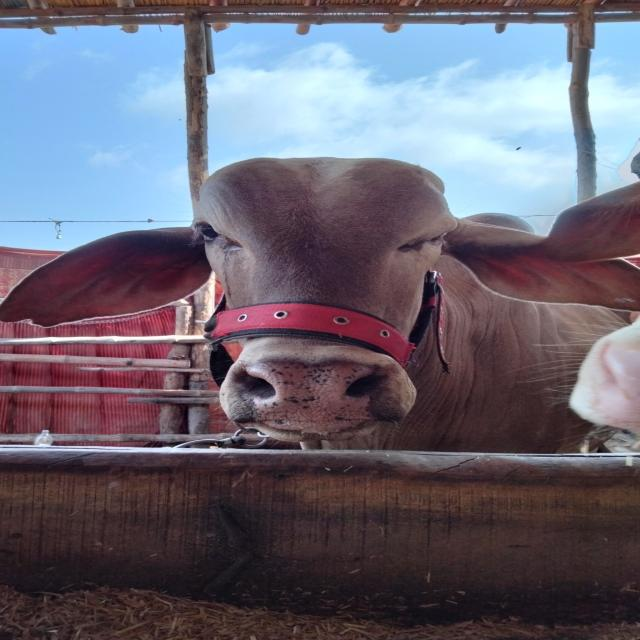muzzles: (221, 354, 404, 430)
